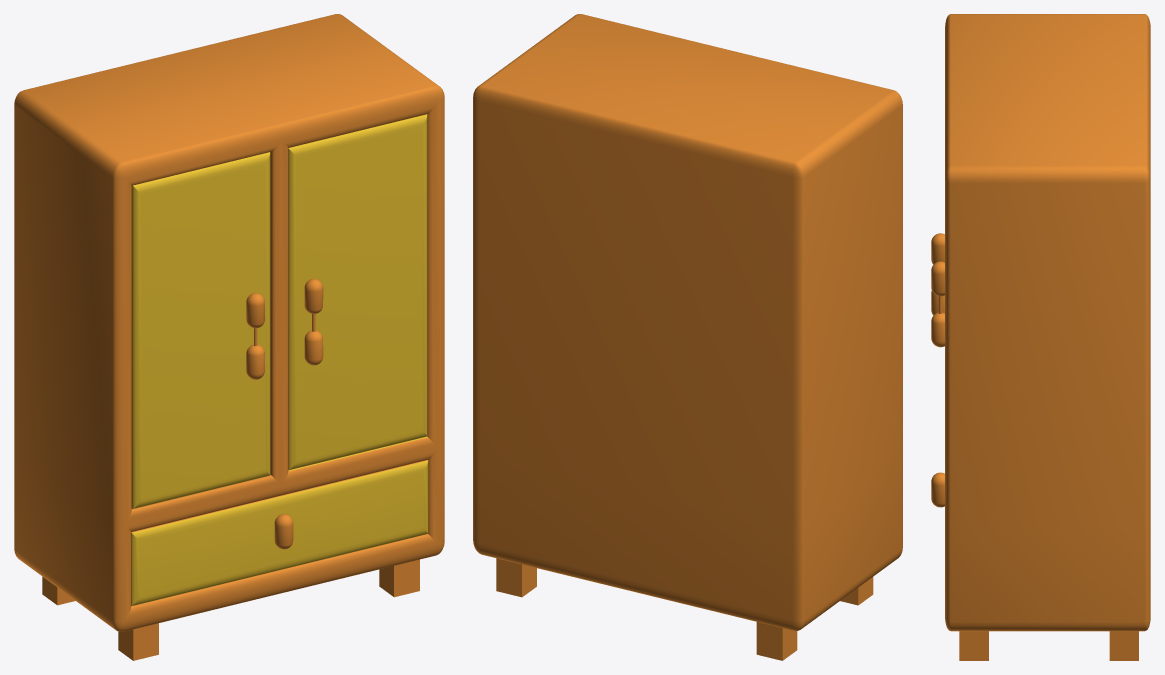
Rendered from Lemari 3d cartoon.fbx.
The picture shows the model from 3 angles, left to right: view 1: azimuth 30°, elevation 25°; view 2: azimuth 150°, elevation 25°; view 3: azimuth 270°, elevation 25°; orthographic projection.
Visible parts, largest first — view 1: Cube.013, Cube.014, Cube.016, Sphere.011, Sphere.012, Sphere.009, Sphere.010, Sphere.013; view 2: Cube.013, Cube.015, Cube.017; view 3: Cube.013, Cube.016, Cube.017, Sphere.011, Sphere.012, Sphere.013, Sphere.009.
Part boxes in pixels (x1=…): Cube.013: x1=14, y1=14, x2=444, y2=631; Cube.014: x1=118, y1=623, x2=158, y2=660; Cube.016: x1=379, y1=559, x2=419, y2=597; Sphere.011: x1=304, y1=278, x2=323, y2=323; Sphere.012: x1=304, y1=322, x2=323, y2=365; Sphere.009: x1=246, y1=293, x2=264, y2=337; Sphere.010: x1=246, y1=336, x2=264, y2=379; Sphere.013: x1=274, y1=514, x2=293, y2=549; Cube.013: x1=473, y1=14, x2=902, y2=630; Cube.015: x1=756, y1=622, x2=797, y2=660; Cube.017: x1=496, y1=558, x2=536, y2=597; Cube.013: x1=945, y1=14, x2=1150, y2=631; Cube.016: x1=959, y1=631, x2=988, y2=660; Cube.017: x1=1109, y1=631, x2=1138, y2=660; Sphere.011: x1=931, y1=261, x2=944, y2=305; Sphere.012: x1=931, y1=305, x2=944, y2=347; Sphere.013: x1=931, y1=472, x2=944, y2=507; Sphere.009: x1=931, y1=233, x2=944, y2=264.
Size of the model in its own units: 485 by 707 by 281.
